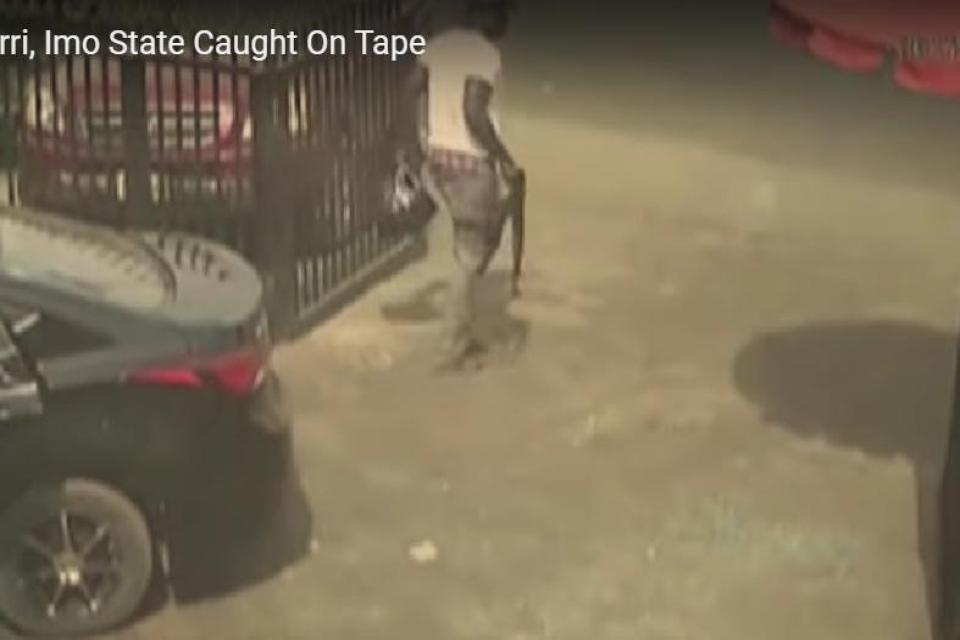non-violence: (402, 0, 530, 379)
weapon: (489, 150, 534, 298)
